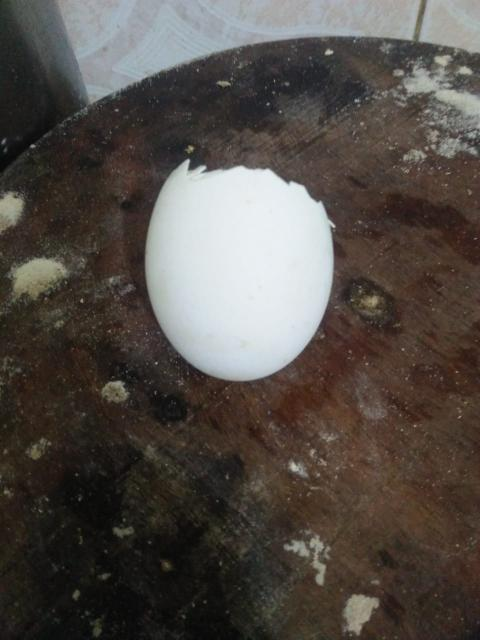Roto: (143, 158, 335, 382)
